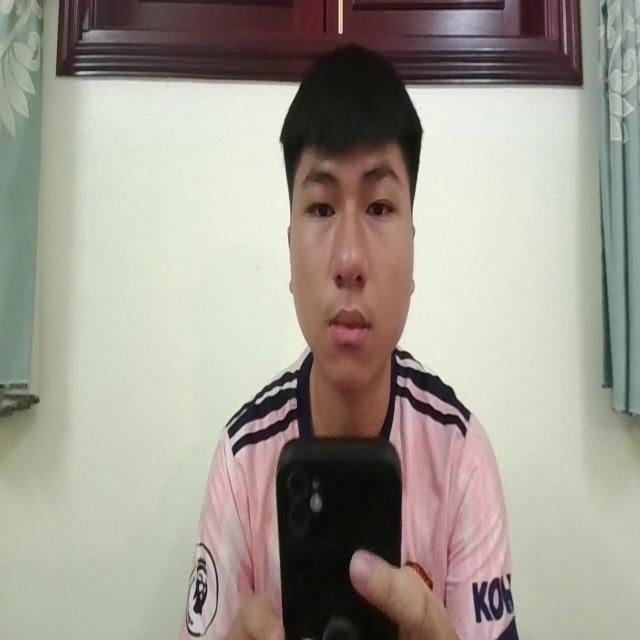phone: (274, 428, 404, 640)
student: (184, 35, 517, 640)
